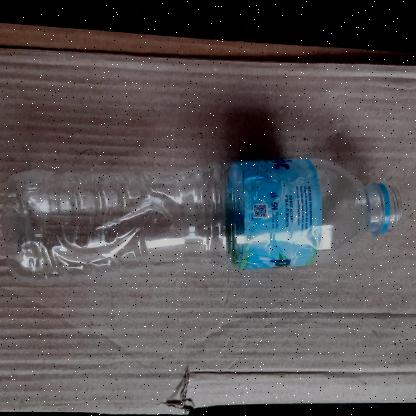Plastic Bottle: (2, 156, 402, 282)
